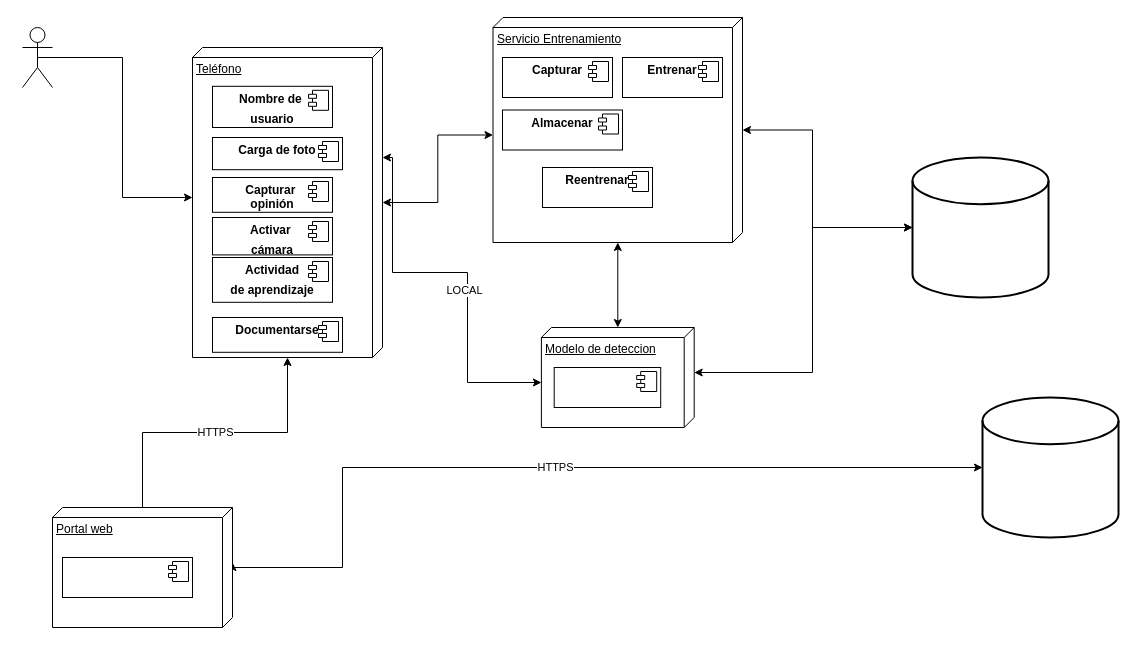
The diagram is 1137 pixels wide and 645 high, and some of its shapes have lost their labels. Here are the shapes that lost their labels. From the top down, the centre of each, then its label:
At pixel 37 57: "Usuario".
At pixel 980 227: "Data(Entrenamiento)".
At pixel 607 387: "Clasificar".
At pixel 1050 467: "Data (Imágenes, comentarios, nombre de usuario)".
At pixel 127 577: "Dashboard".
